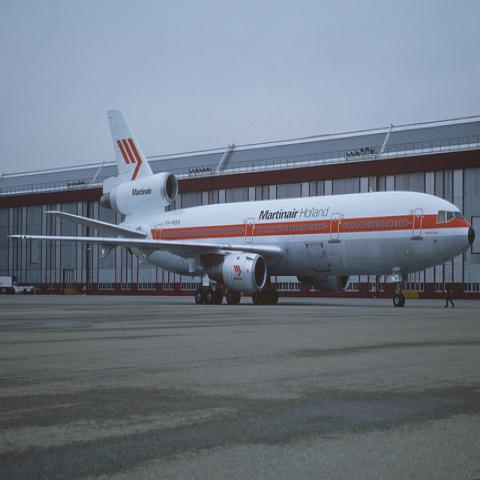truck: (0, 276, 18, 294), (12, 282, 36, 294)
